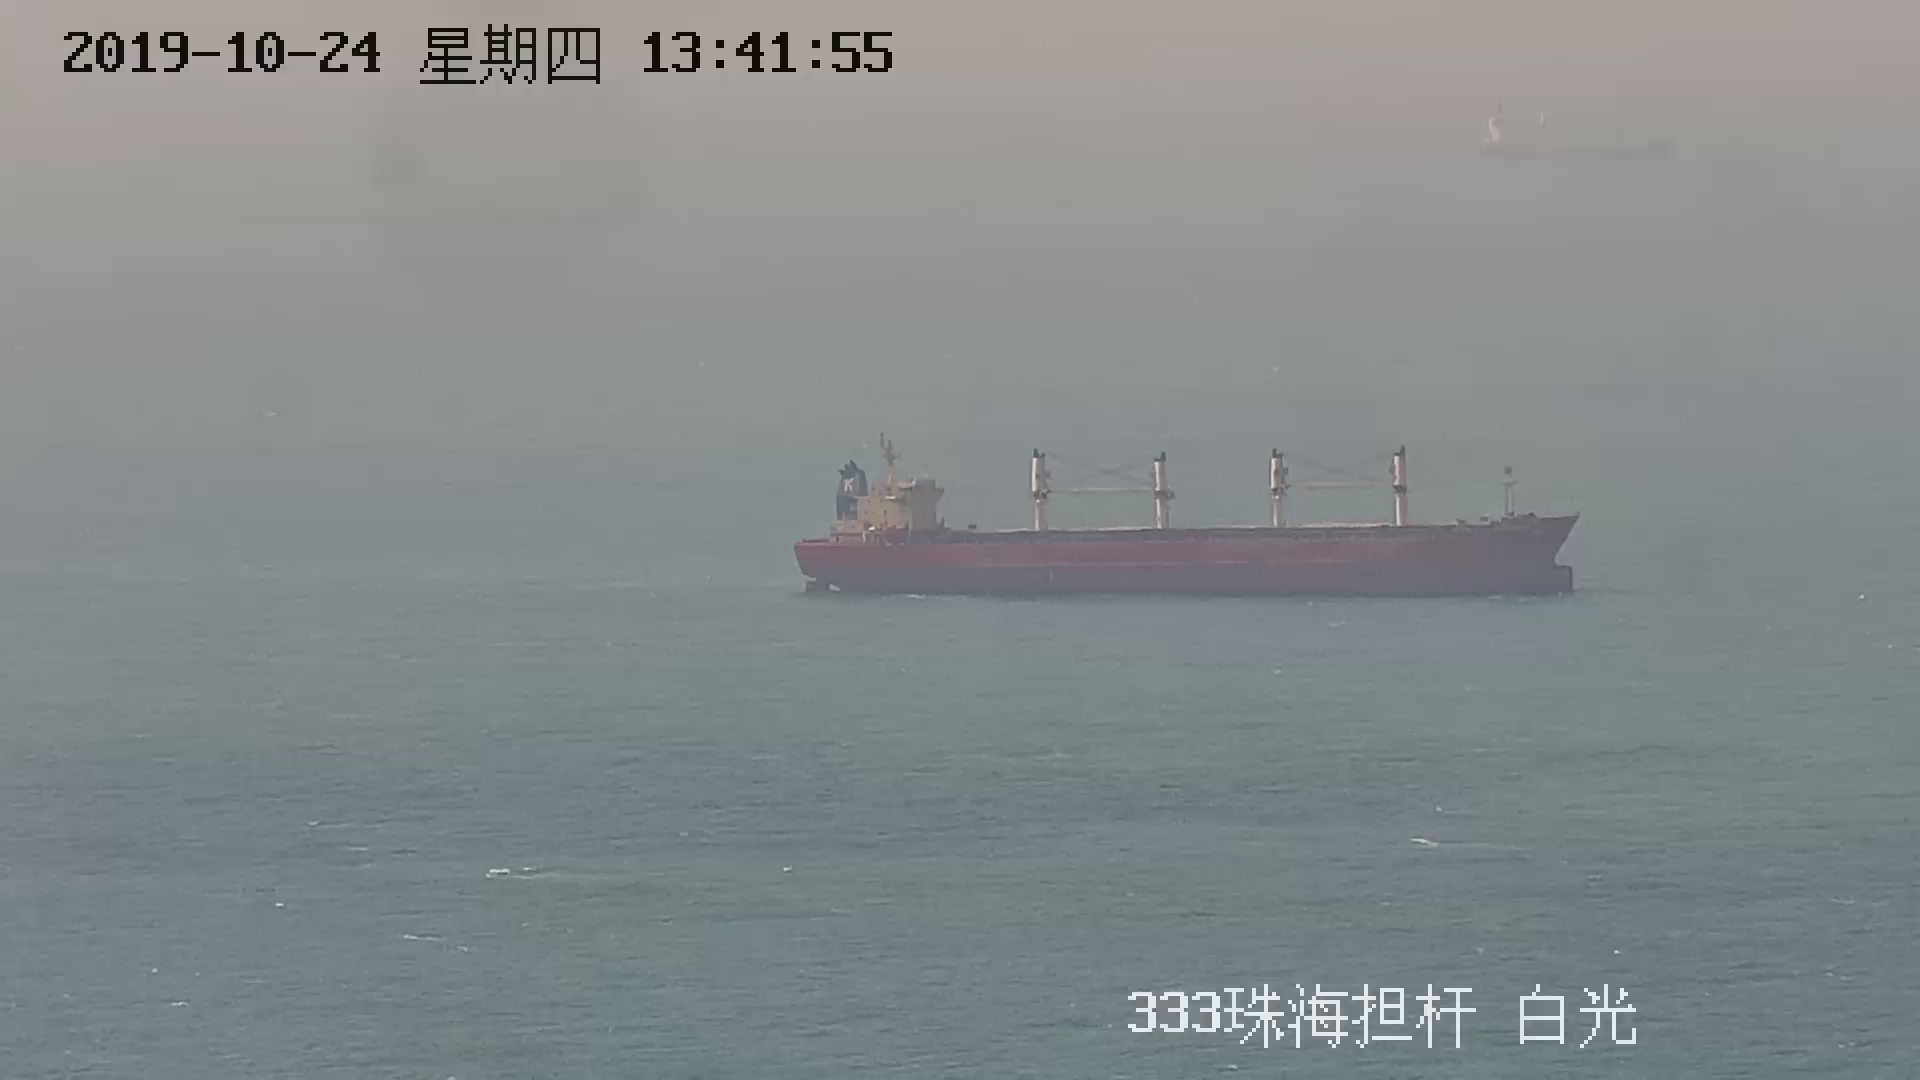ship: (793, 430, 1585, 597)
